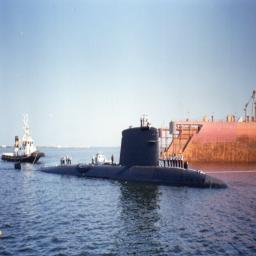submarine: (38, 121, 231, 189)
